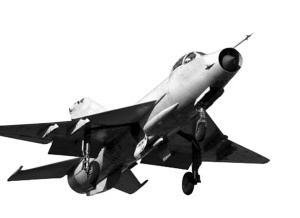airplane: (1, 31, 270, 191)
